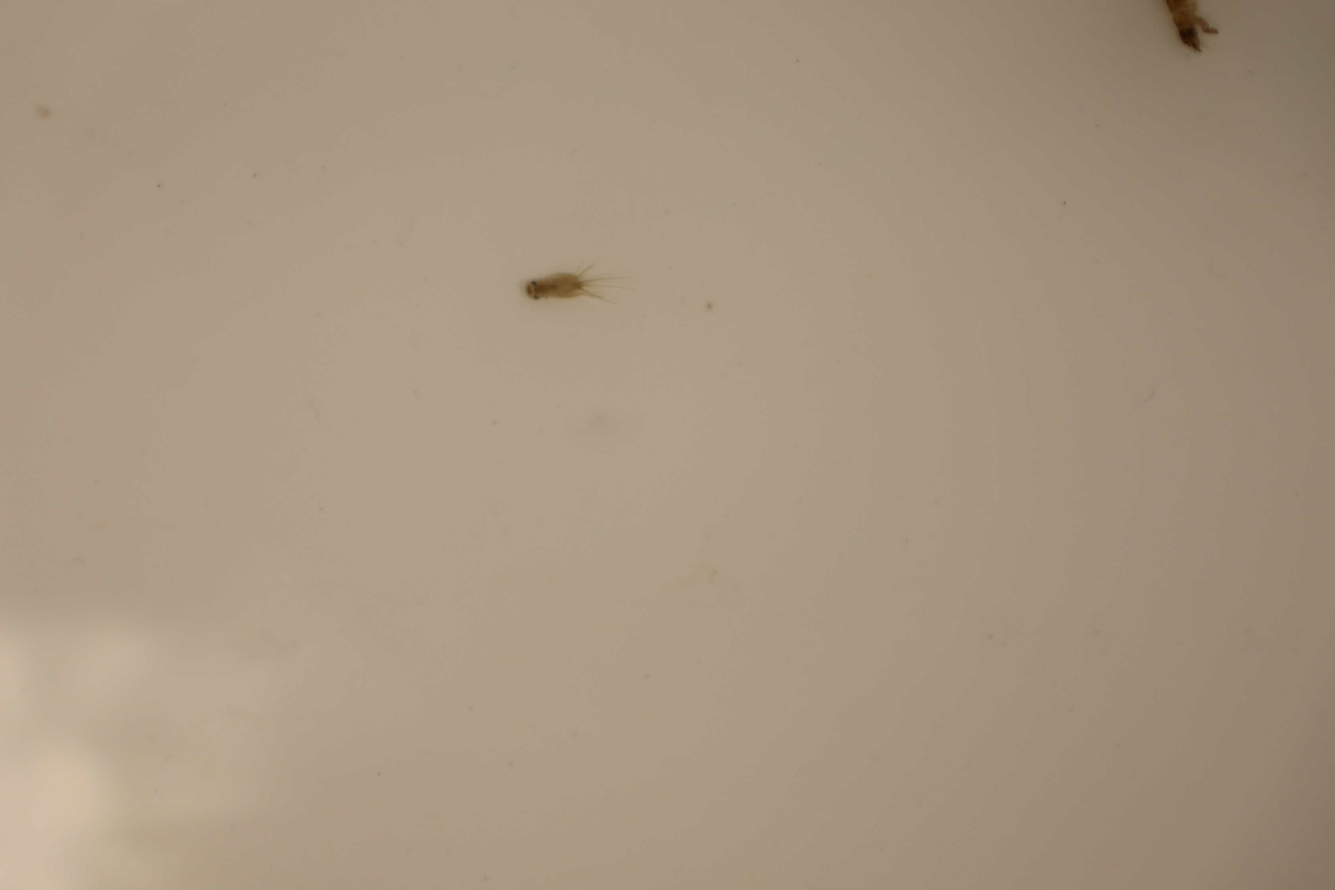Mayfly: (515, 255, 645, 306), (1159, 0, 1219, 65)
